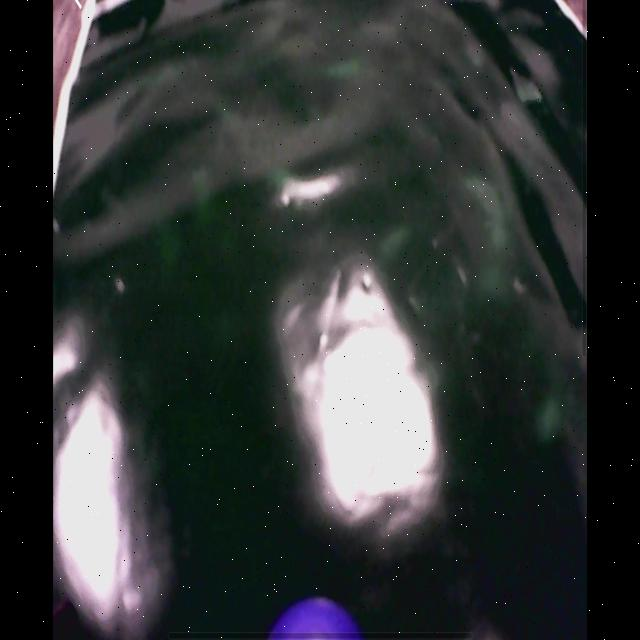ball: (269, 597, 362, 640)
